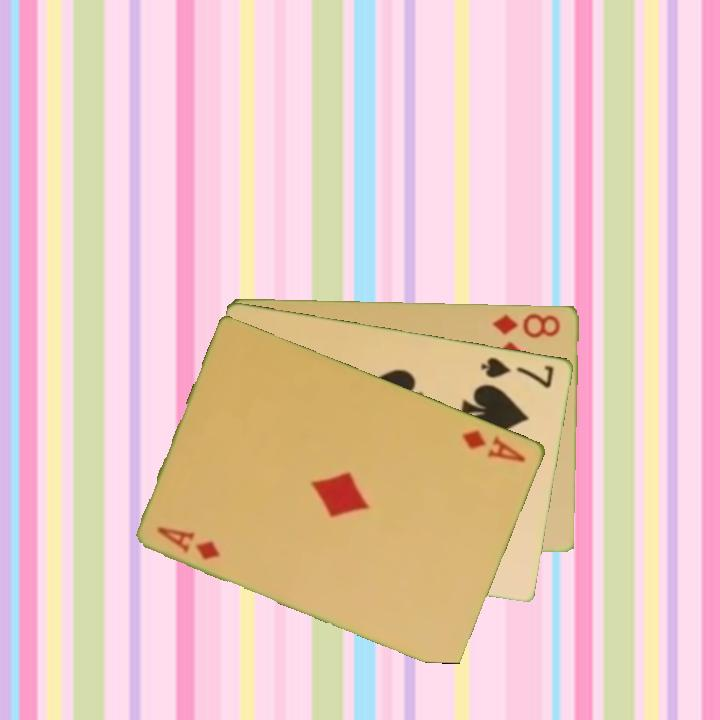7s: (478, 353, 557, 391)
8d: (489, 309, 564, 340)
Ad: (153, 522, 224, 563), (459, 426, 529, 465)
